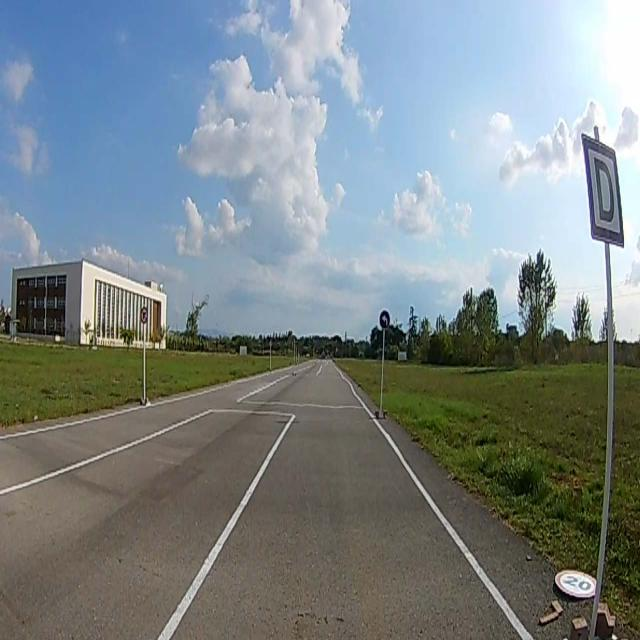durak: (581, 134, 623, 242)
sol: (378, 310, 390, 330)
